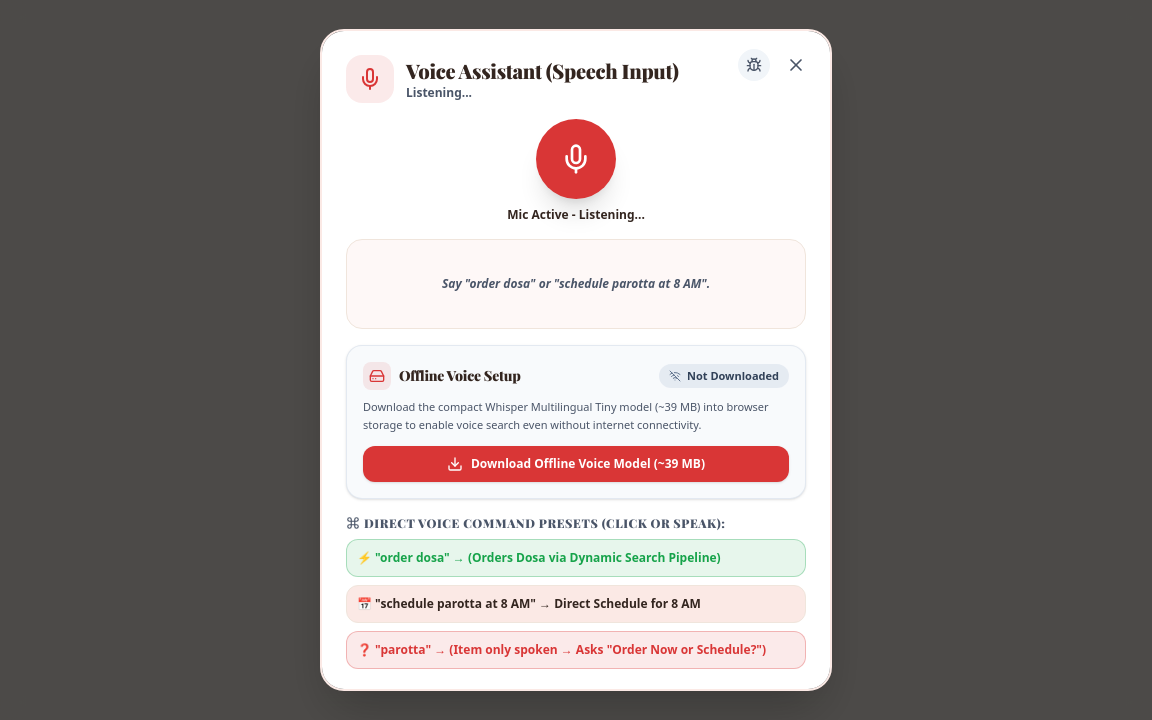
Test: VoiceCommandModal - Offline Voice Setup Section › 2. Clicking download button shows user consent prompt and does NOT download without consent
The width and height of the screenshot is (1152, 720).
Click the button "Download Offline Voice Model (~39 MB)". click: point(576, 464)
box: x1=363 y1=446 x2=789 y2=482
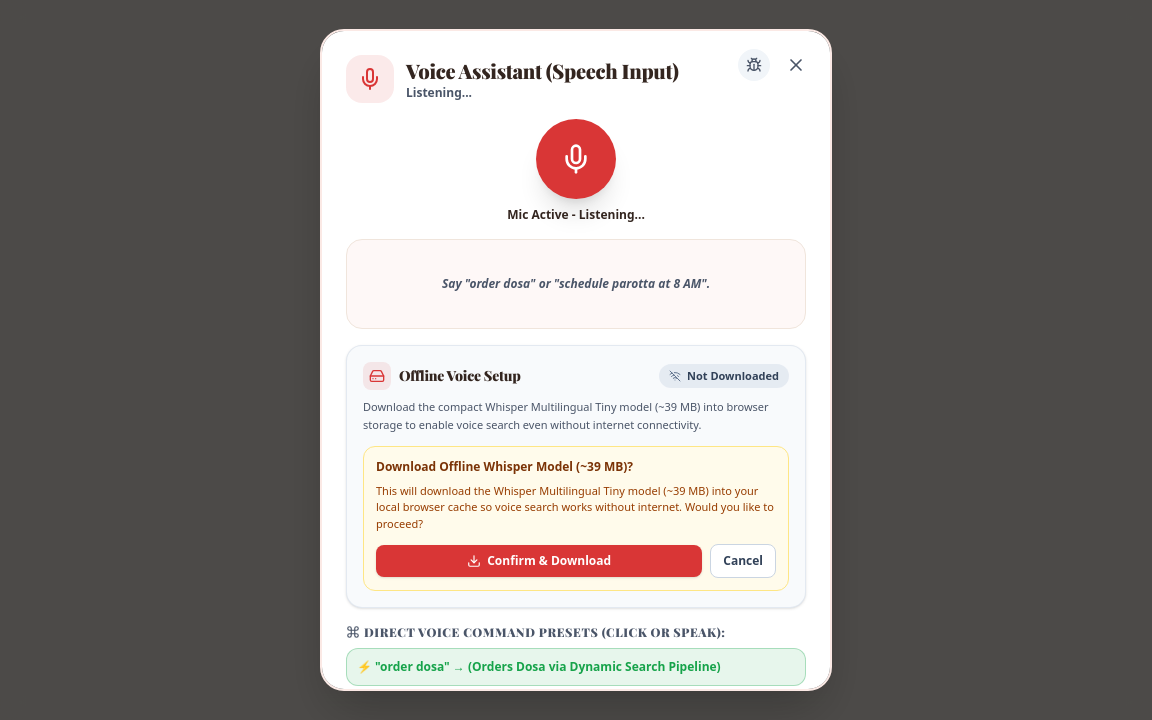
Check: the text "Download Offline Whisper Model (~39 MB)?" is shown, box x1=376 y1=458 x2=633 y2=474
Check: the text "Confirm & Download" is shown, box x1=487 y1=553 x2=611 y2=569
Check: the button "Cancel" is shown, box x1=710 y1=544 x2=776 y2=578
